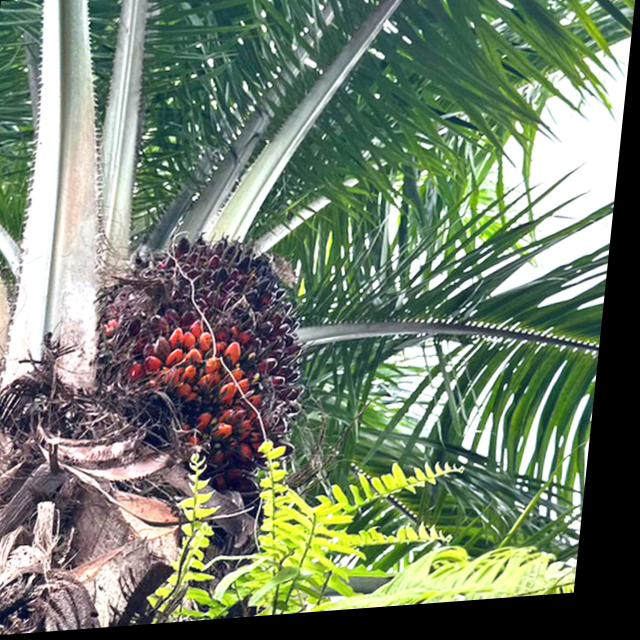ripe: (74, 206, 347, 503)
